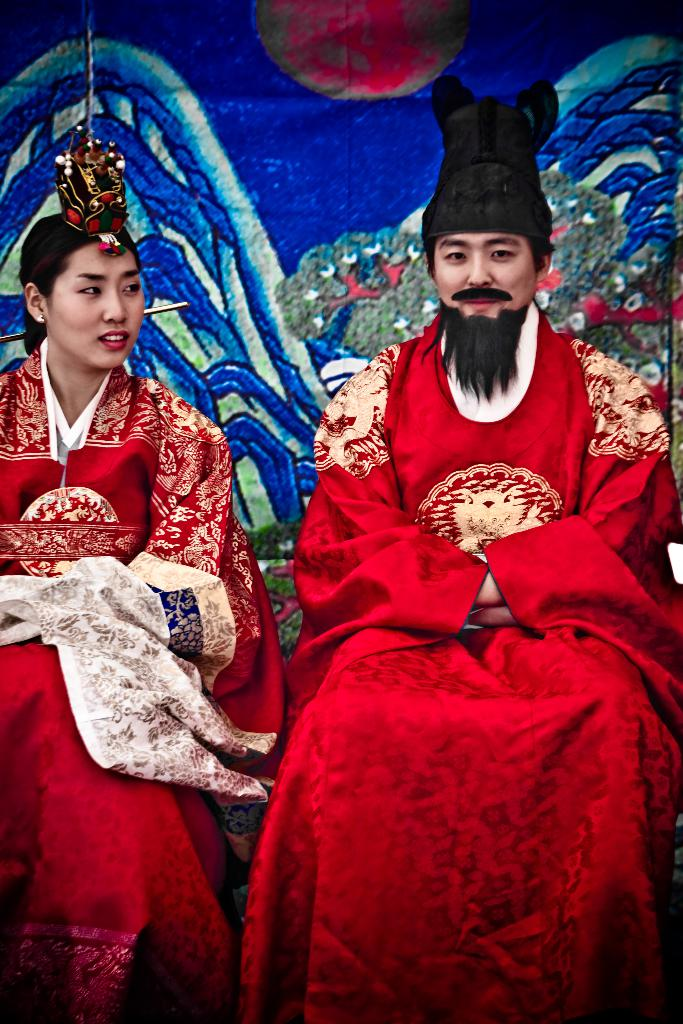Person: (284, 71, 679, 1023), (0, 126, 285, 1024)
